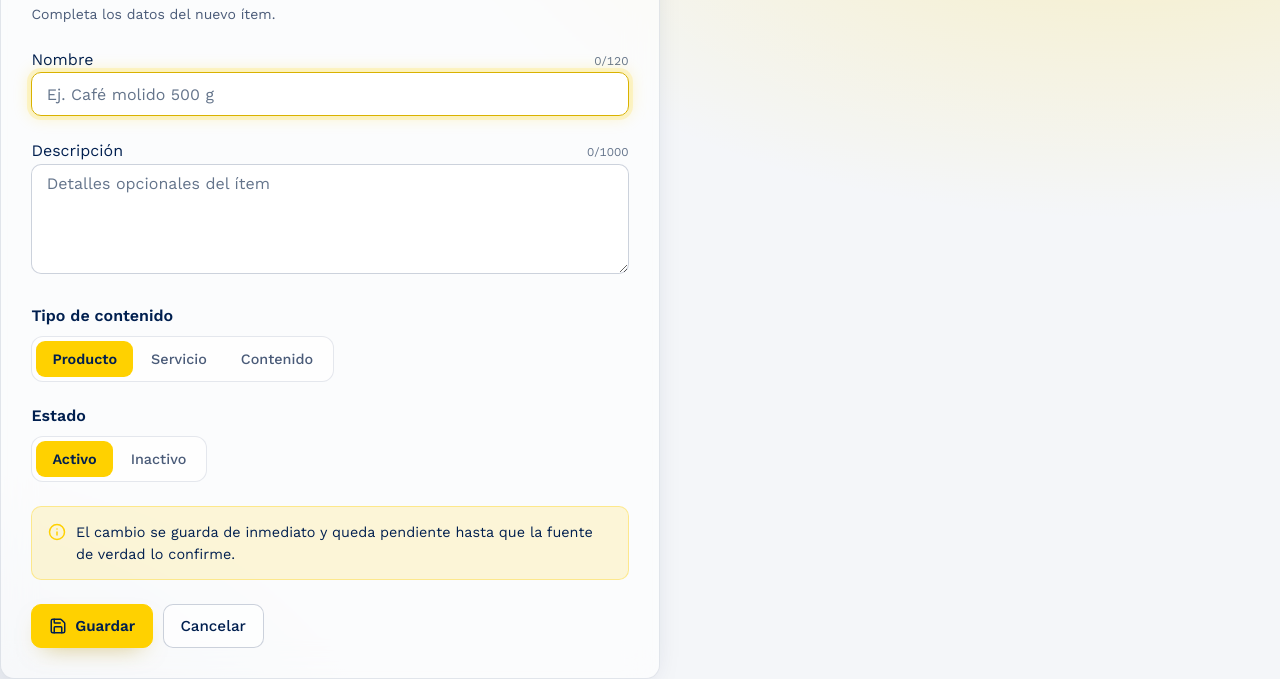
ItemForm › valida en el cliente y no envía nada si falta el nombre
(page scrolled)
Click the button "Guardar" at (92, 626), box [31,604,153,648]
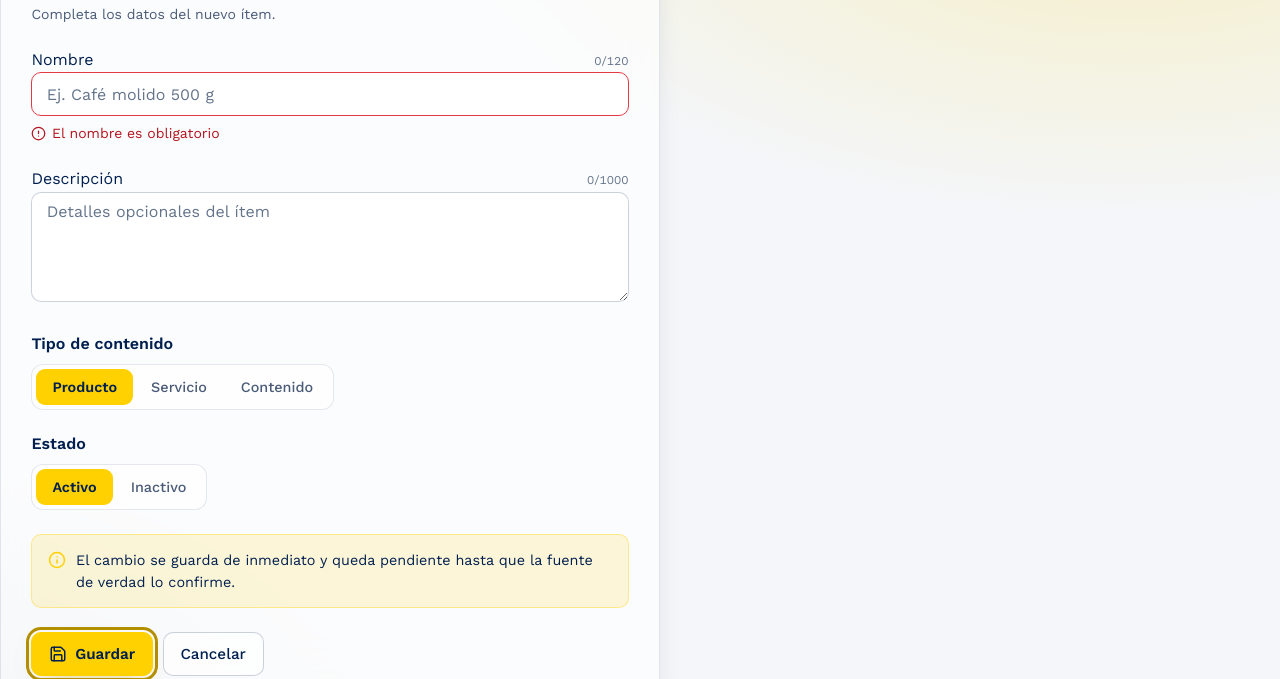
Expected: the text "El nombre es obligatorio" is shown, [31,125,220,141]
